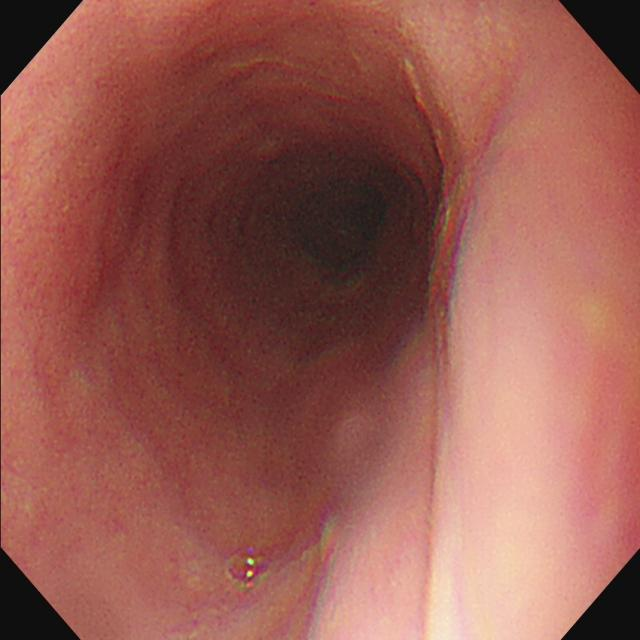E: (271, 162, 400, 301)
T: (226, 546, 272, 592)
